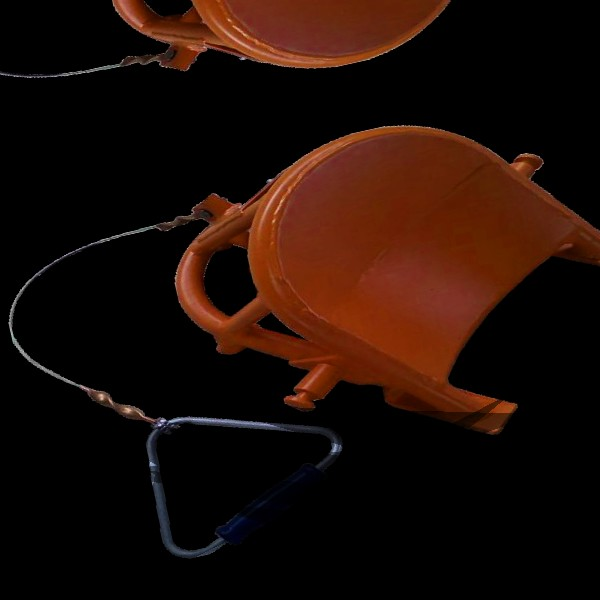chock: (146, 74, 600, 499)
